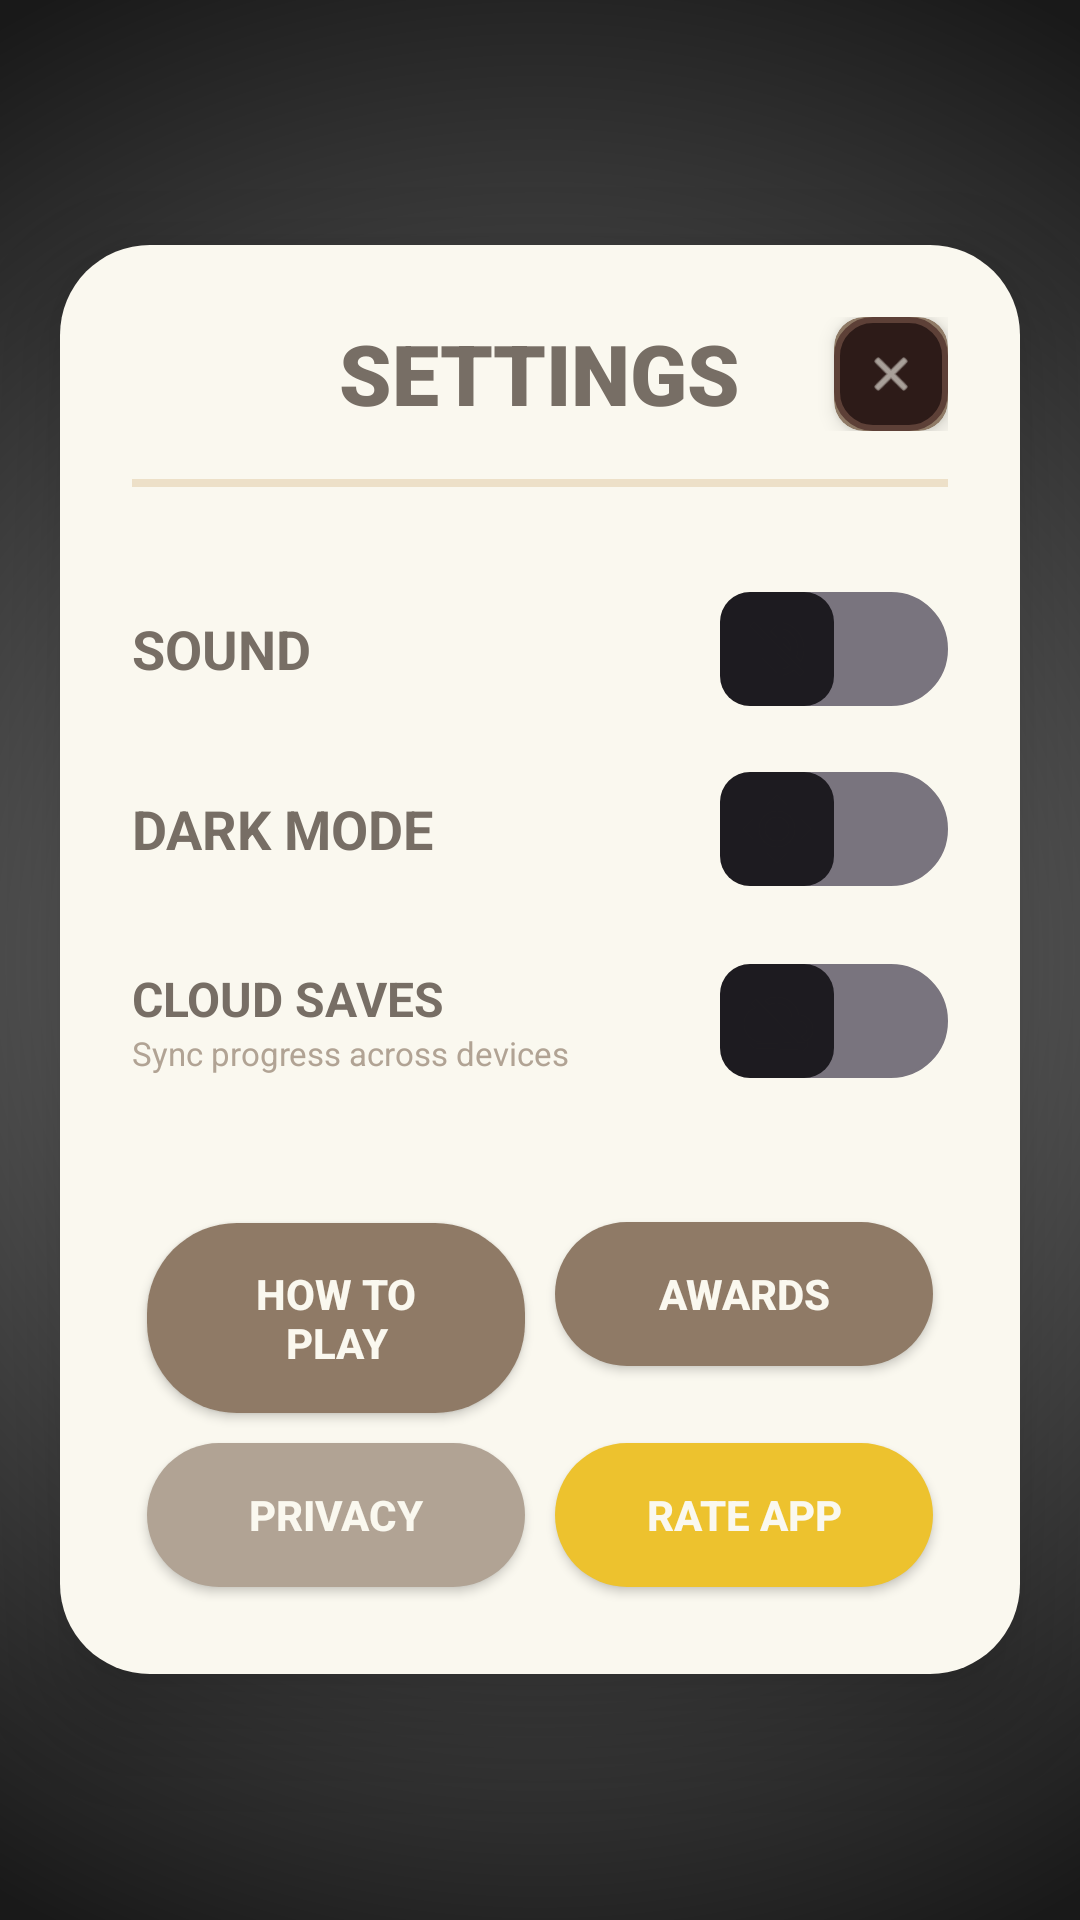

Point at icon controls on the screen. Image size 1080 x 1920, points as point (x, y).
close clear cancel: point (891, 374)
